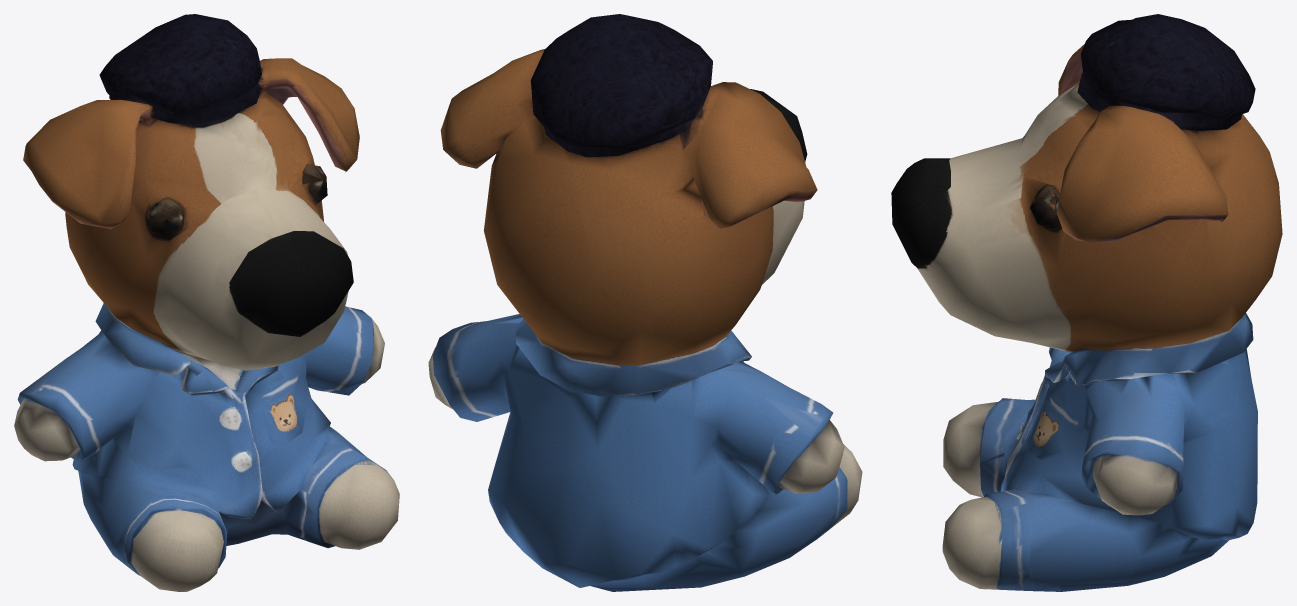
The model's file is Tan.glb.
The picture shows the model from 3 angles, left to right: view 1: azimuth 30°, elevation 25°; view 2: azimuth 150°, elevation 25°; view 3: azimuth 270°, elevation 25°; orthographic projection. The views are drawn at different scales.
Visible parts, largest first — view 1: Tan; view 2: Tan; view 3: Tan.
Part boxes in pixels (bbox=[...]): Tan: bbox=[14, 14, 399, 591]; Tan: bbox=[428, 14, 862, 591]; Tan: bbox=[891, 14, 1282, 591].
Size of the model in its own units: 2.2 by 2.89 by 1.93.
Materials: 1 (1 with a texture image).
